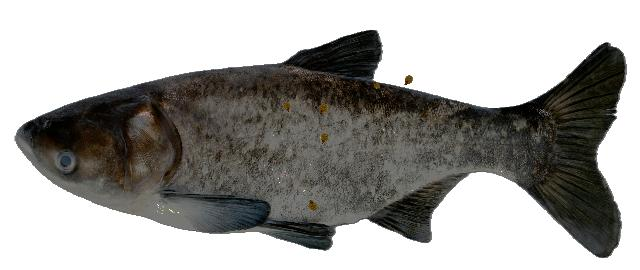Parasitic Disease: (16, 31, 624, 257), (16, 31, 624, 257)
